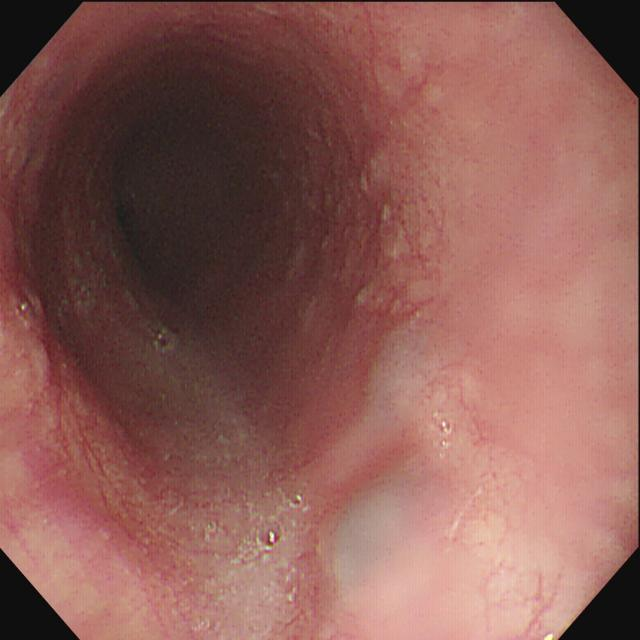A: (13, 309, 143, 539), (325, 175, 440, 314)
E: (89, 120, 302, 361)
T: (147, 326, 310, 563), (431, 411, 457, 463), (15, 297, 36, 322)
